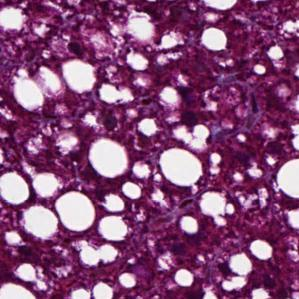steatosis: (158, 144, 210, 191), (86, 138, 131, 178), (197, 23, 231, 53)
